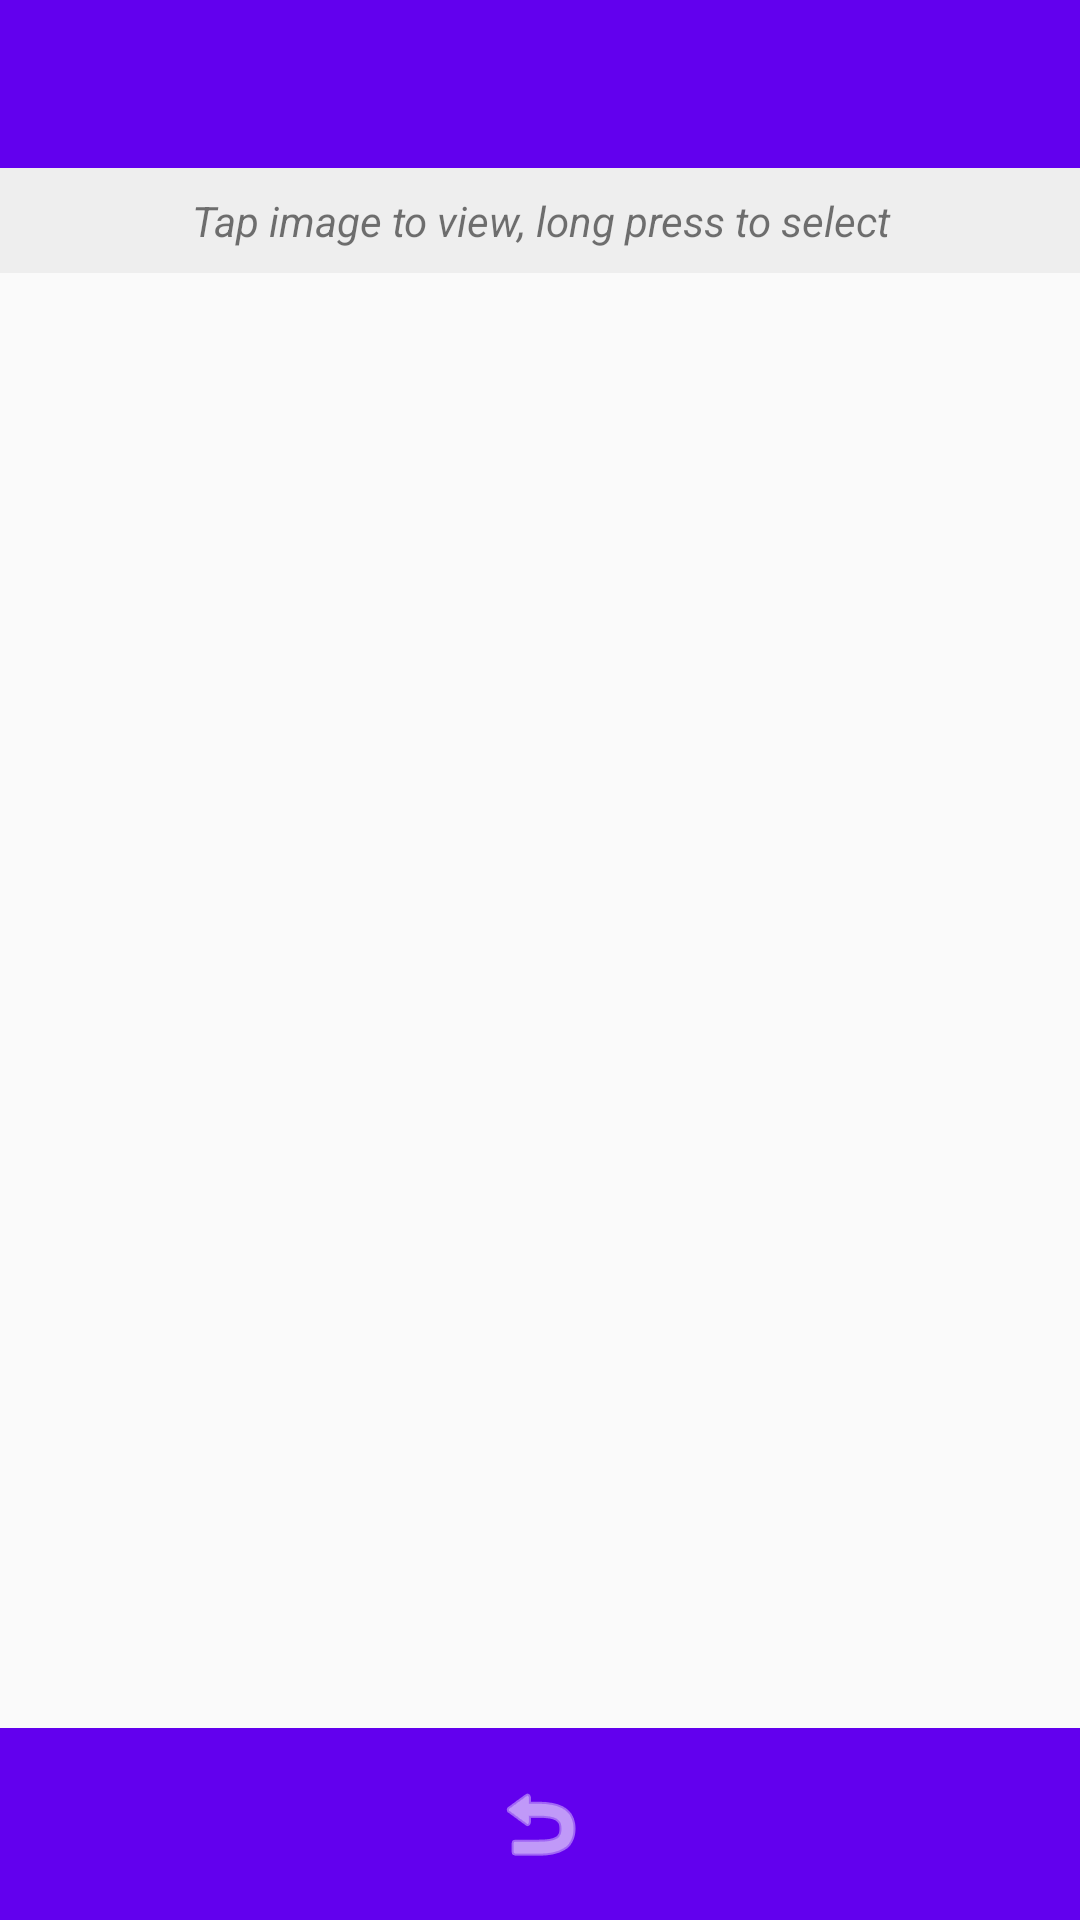

Named icons in this screenshot (1080*1920) and their centers, (x=x, y=y):
Return to camera: (x=541, y=1824)
